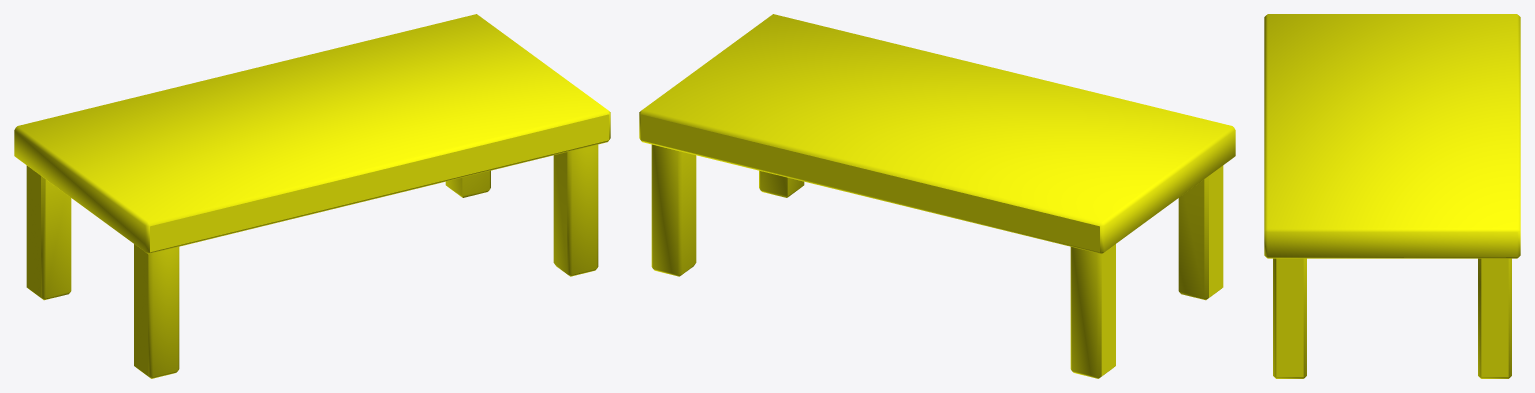
Rendered from kaykit-prototype-table-medium-long.glb.
3 views of the same model, side by side, from view 1: azimuth 30°, elevation 25°; view 2: azimuth 150°, elevation 25°; view 3: azimuth 270°, elevation 25° (orthographic). The views are drawn at different scales.
Visible parts, largest first — view 1: table_medium_long; view 2: table_medium_long; view 3: table_medium_long.
Boxes of the visible parts, box(x1,y1,x2,y2) form: table_medium_long: box(14, 14, 610, 378); table_medium_long: box(639, 14, 1235, 378); table_medium_long: box(1264, 14, 1520, 378).
Size of the model in its own units: 3 by 0.9999 by 1.5.
